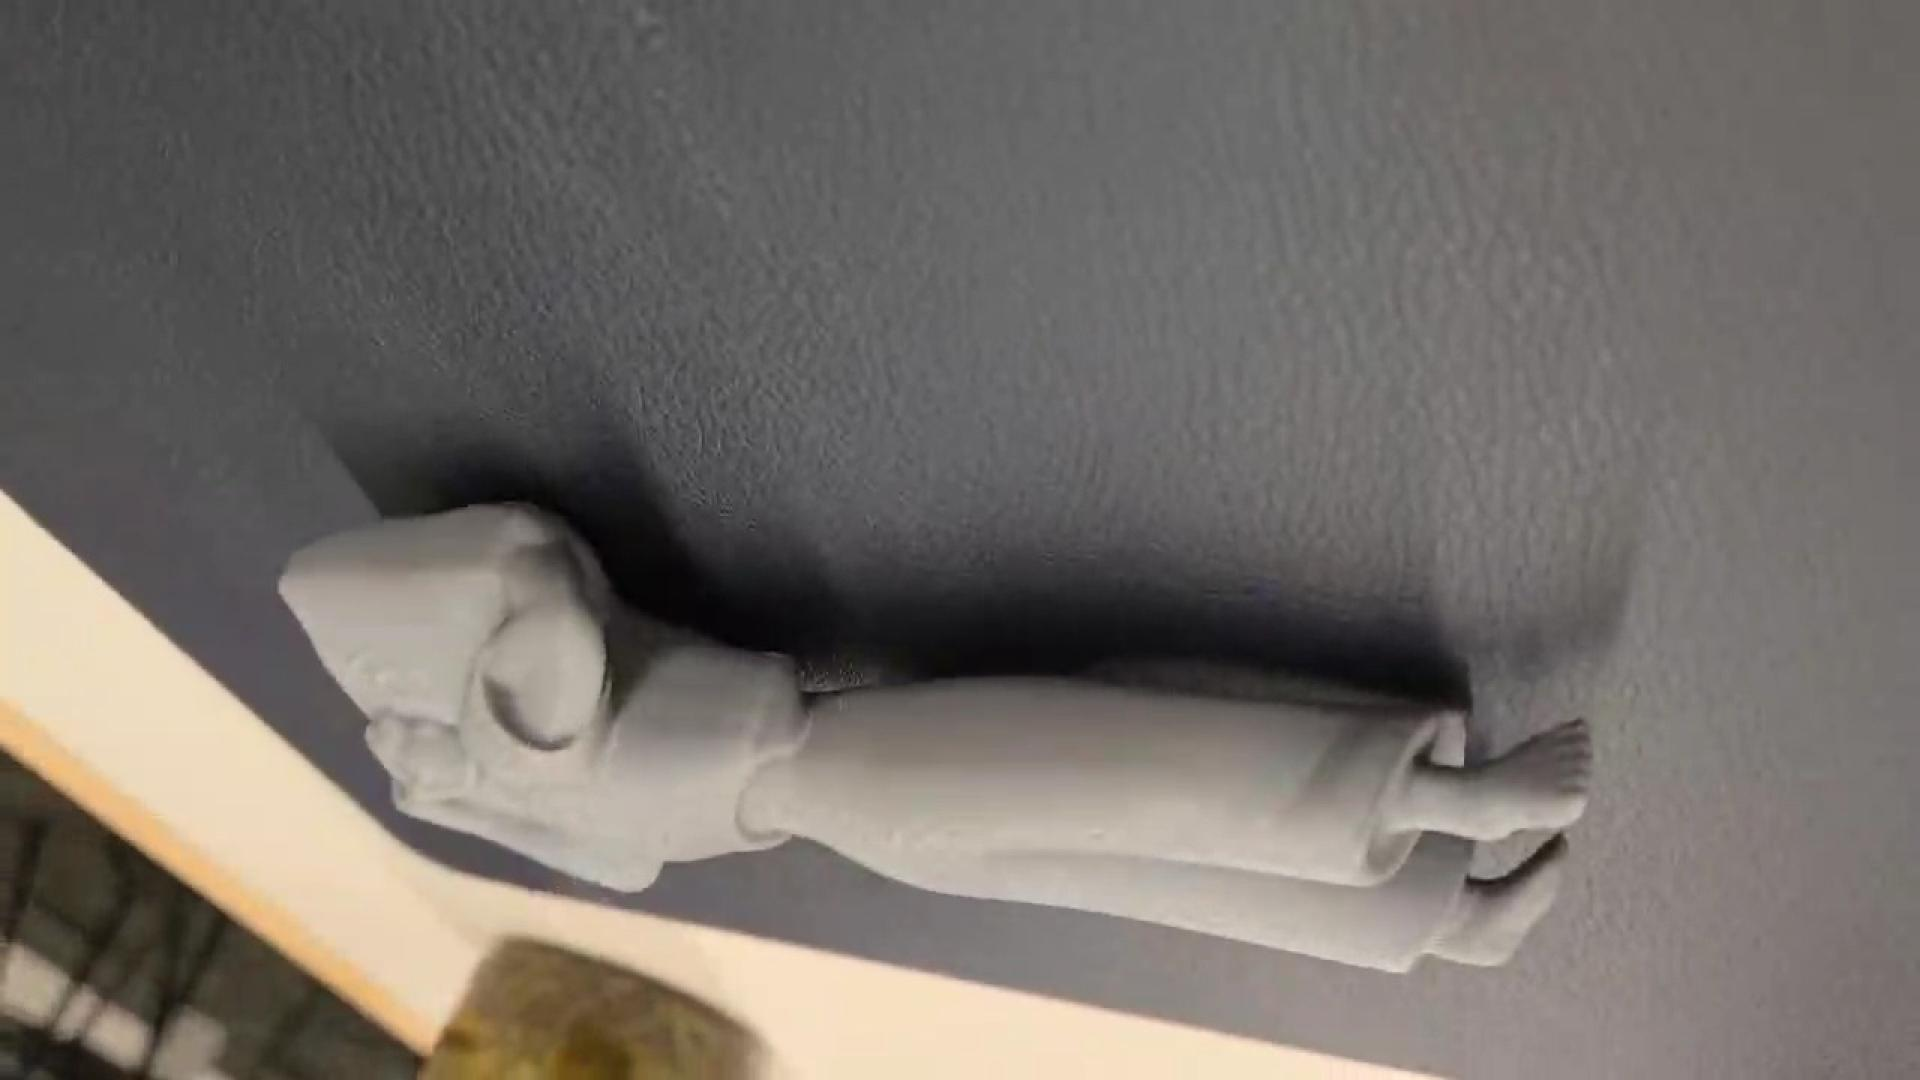Bad-style: (272, 500, 1602, 975)
